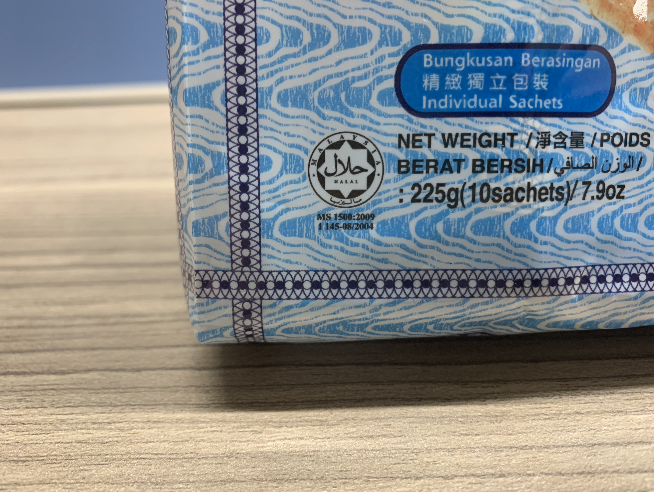halal: (322, 142, 375, 204)
